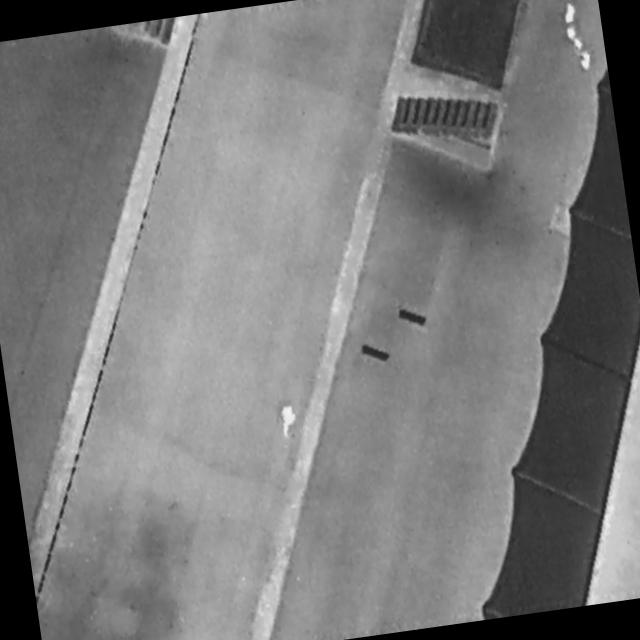person: (279, 403, 299, 439)
